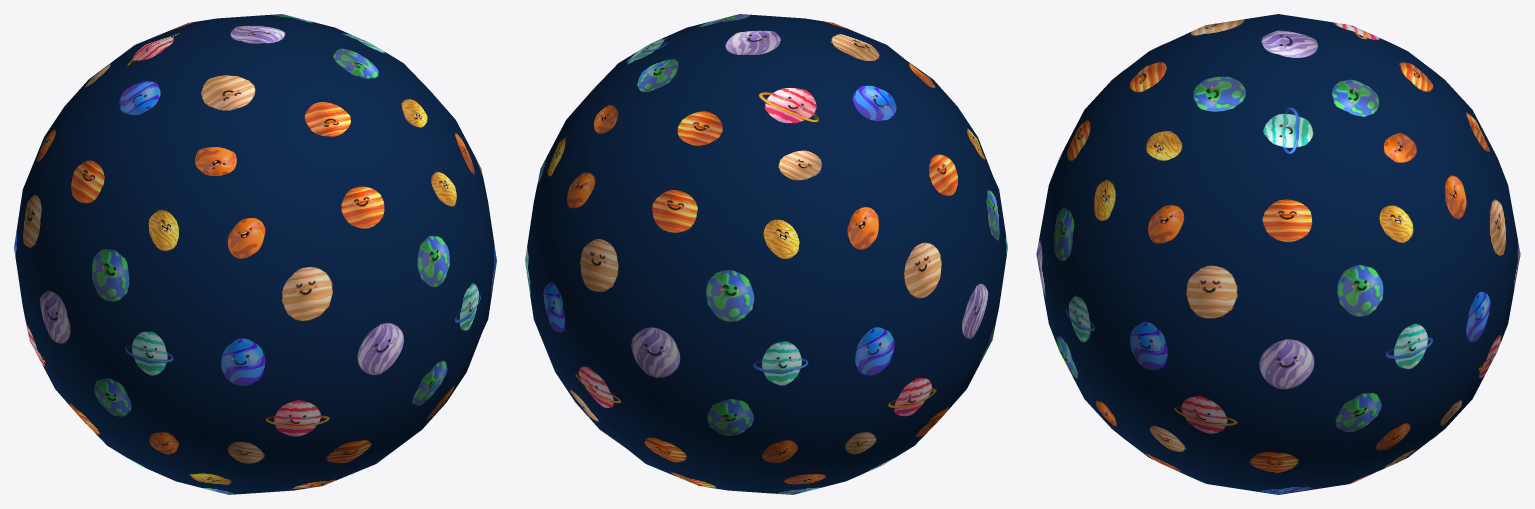
File: Ball.fbx
3 renders of one model, left to right at view 1: azimuth 30°, elevation 25°; view 2: azimuth 150°, elevation 25°; view 3: azimuth 270°, elevation 25°, orthographic.
Parts seen in each view (by area): view 1: Ball; view 2: Ball; view 3: Ball.
Boxes of the visible parts, x1=… form: Ball: x1=14, y1=14, x2=496, y2=494; Ball: x1=525, y1=14, x2=1007, y2=494; Ball: x1=1036, y1=14, x2=1520, y2=494.
Bounding box in the file's own units: 200 × 200 × 200.
1 material, 1 textured.
